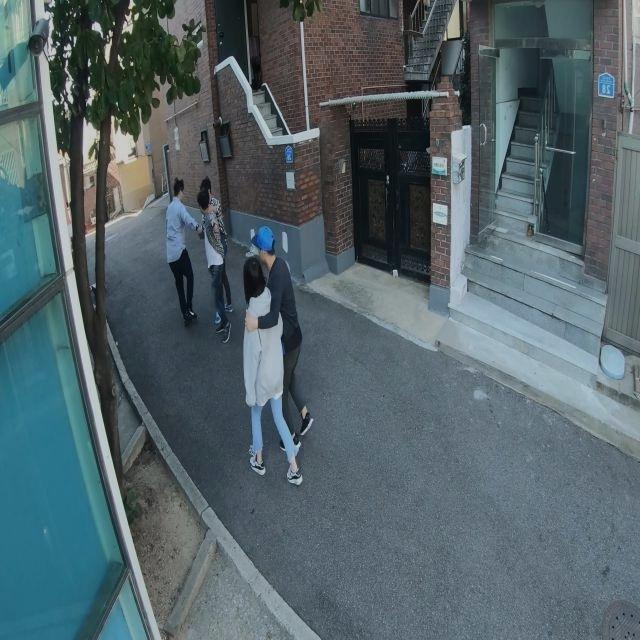fight: (194, 174, 237, 346), (165, 176, 201, 326)
non-fight: (241, 224, 314, 452), (236, 255, 306, 488)
